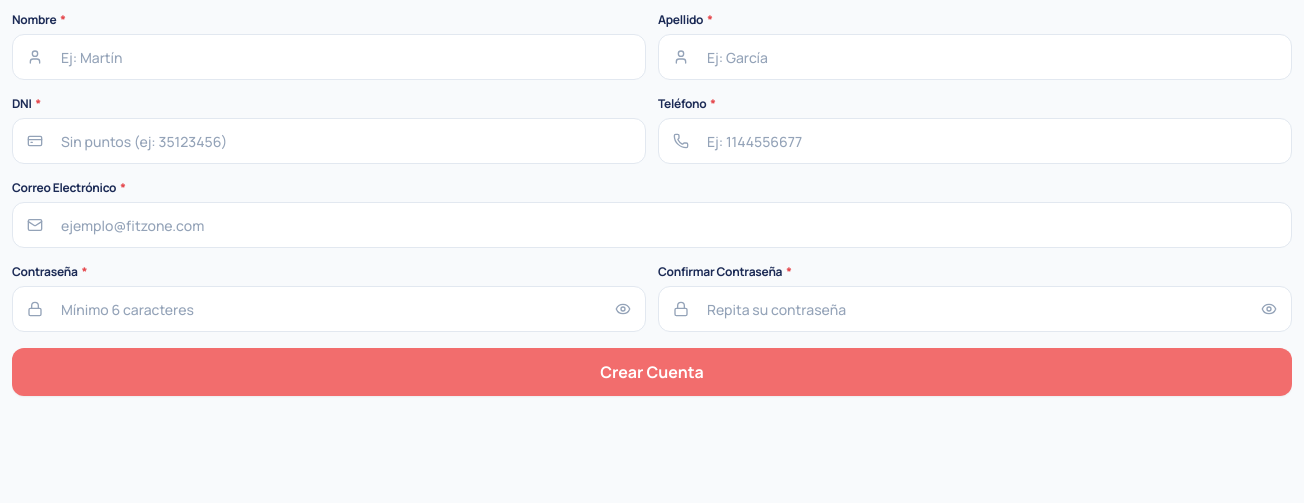
Scenario: SCRUM-89: RegistroForm Component › valida que el DNI contenga entre 7 y 8 dígitos numéricos
The image size is (1304, 503).
Type "1234" into the field labelled "DNI*".
click(346, 141); type("1234")  # box [47, 119, 645, 163]
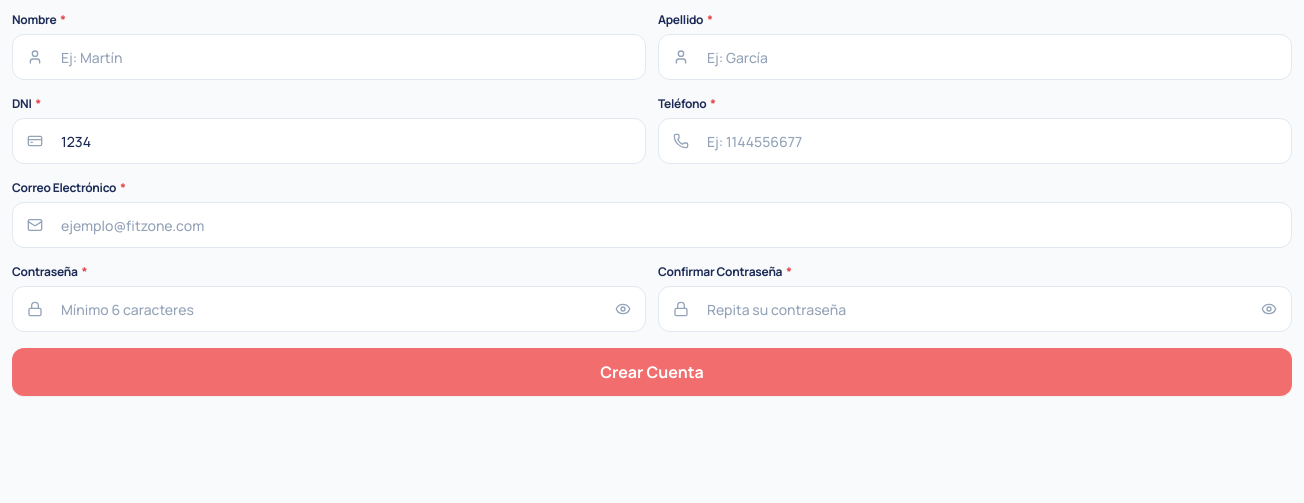
Click the button "Crear Cuenta".
click(652, 372)  # box [12, 348, 1292, 396]
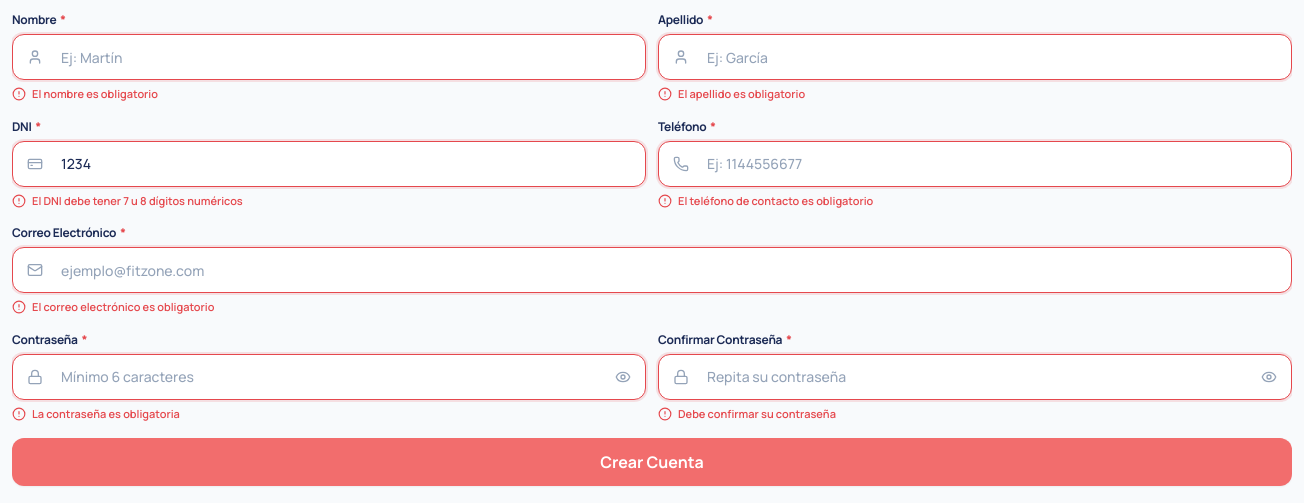
Expected: the text "El DNI debe tener 7 u 8 dígitos numéricos" is shown, [32, 192, 243, 209]
